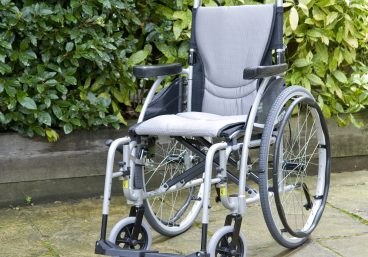wheelchair: (90, 2, 329, 257)
